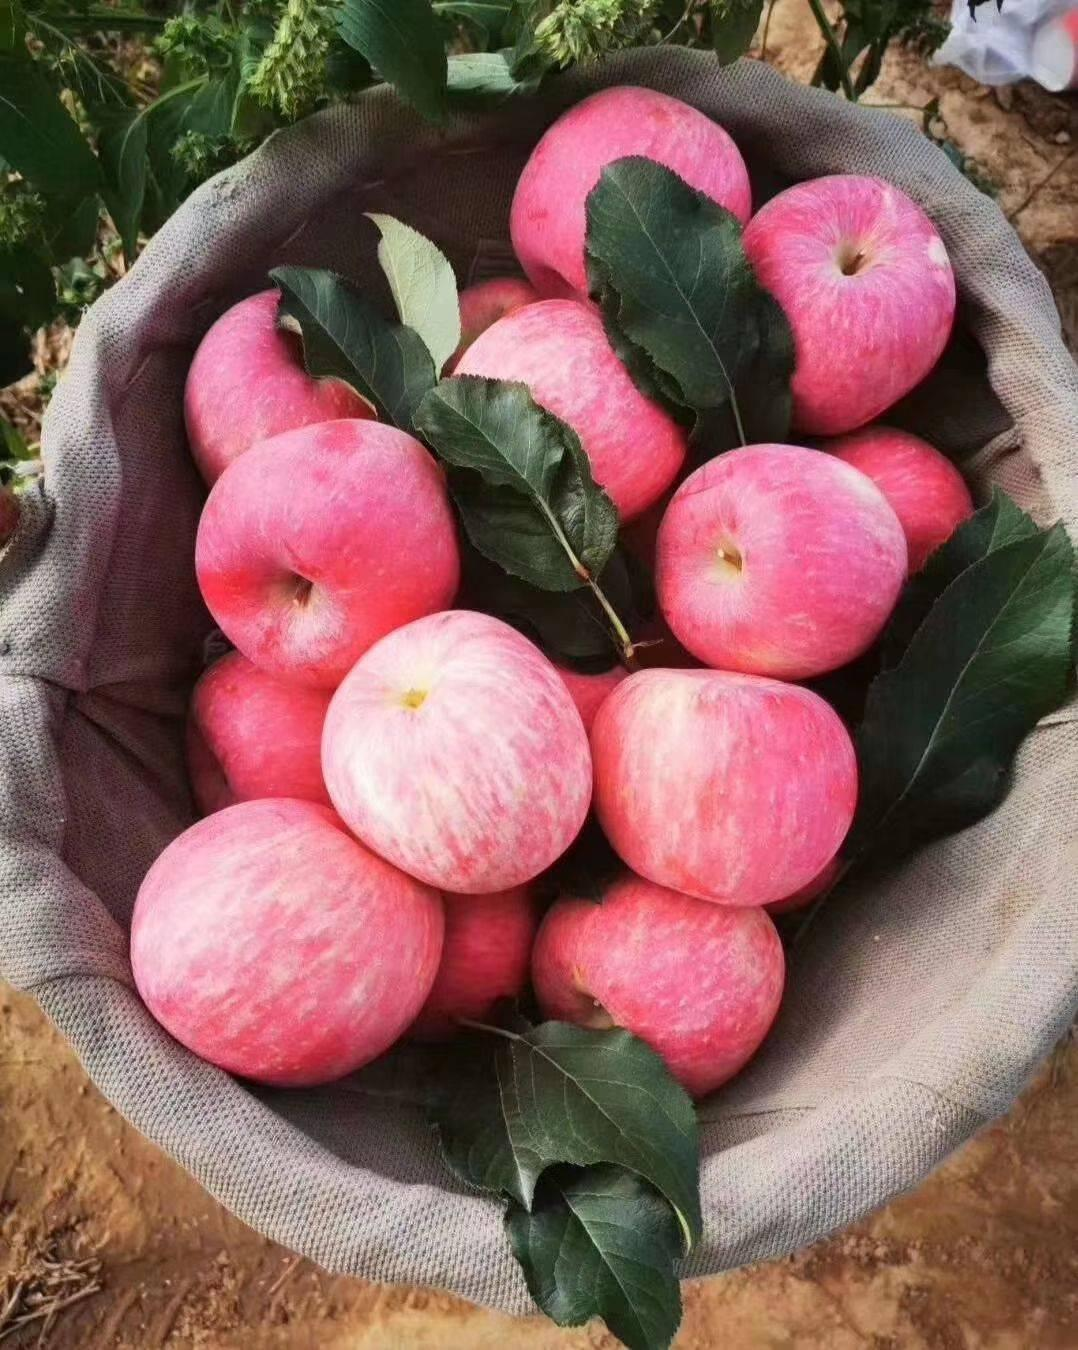apple: (128, 789, 441, 1089), (318, 611, 601, 898), (197, 416, 471, 692), (595, 668, 858, 907), (651, 444, 908, 688), (501, 84, 758, 316), (532, 878, 787, 1098), (740, 174, 955, 427), (455, 303, 689, 530), (183, 290, 374, 489)
